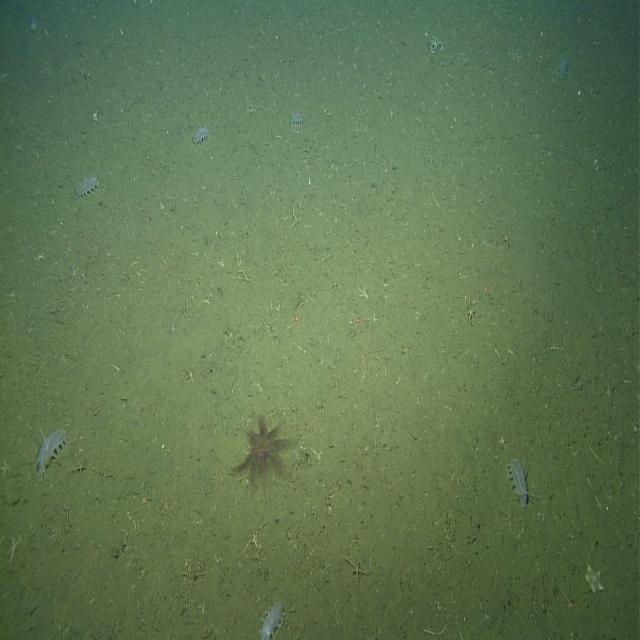Brittle Star: (342, 546, 371, 585), (240, 520, 267, 560), (284, 196, 308, 235), (178, 355, 202, 389), (327, 474, 347, 503), (398, 337, 415, 365)
Not Brittle Star: (229, 404, 297, 504), (30, 418, 71, 483), (505, 448, 532, 513), (257, 596, 287, 639), (73, 168, 102, 202), (583, 562, 605, 597), (191, 121, 212, 149), (555, 51, 571, 84), (288, 106, 306, 130)
